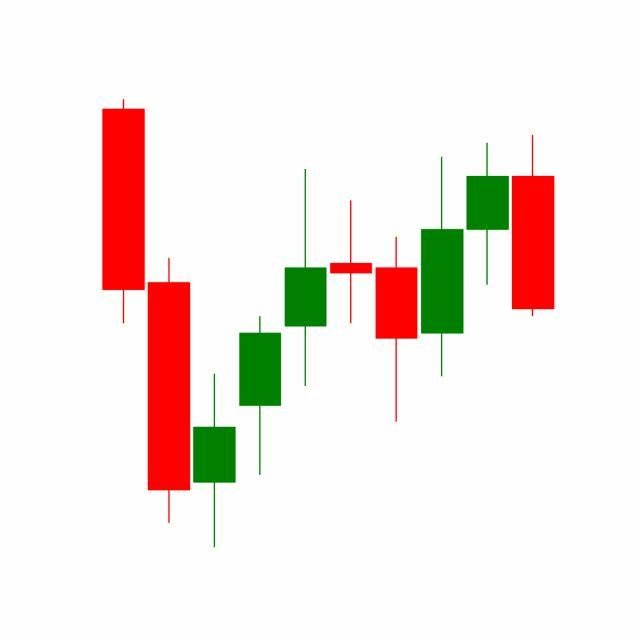Hikkake Pattern: (283, 140, 512, 426)
